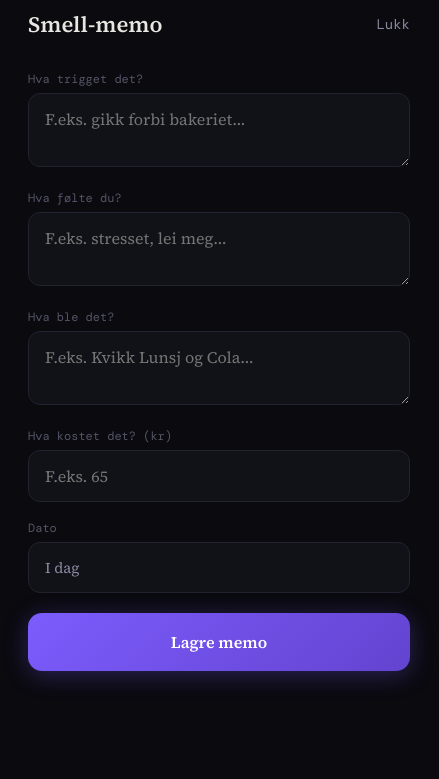
Test case: SmellFlow – memo form › date picker opens and shows last 7 days
# Click the date button (which shows "I dag")
Click the button "I dag". click: (62, 568)
box: [28,542,410,593]
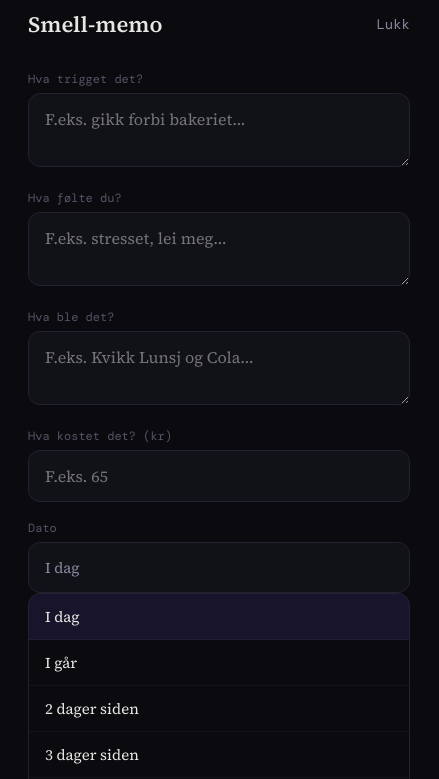
Expected: the button "I går" is shown, [29,640,409,686]
Expected: the button "2 dager siden" is shown, [29,686,409,732]
